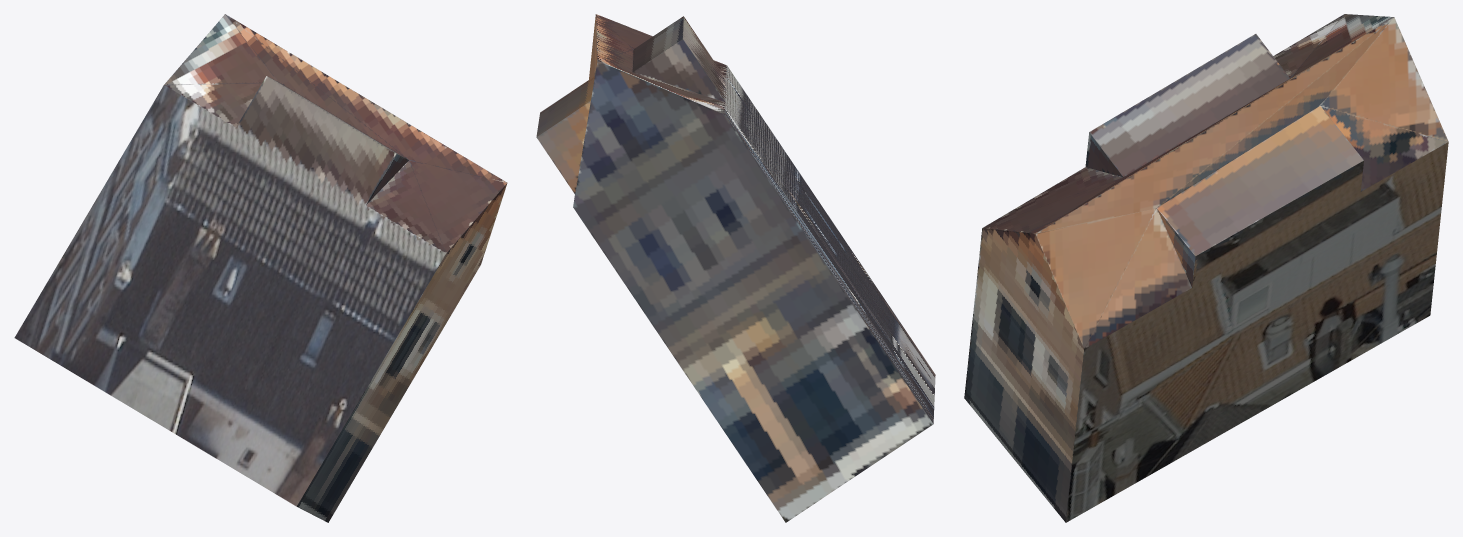
3 views of the same model, side by side, from view 1: azimuth 30°, elevation 25°; view 2: azimuth 150°, elevation 25°; view 3: azimuth 270°, elevation 25° (orthographic). The views are drawn at different scales.
Parts seen in each view (by area): view 1: BAG_0599100000760543 (×4); view 2: BAG_0599100000760543 (×4); view 3: BAG_0599100000760543 (×4).
Part boxes in pixels (left/top/right/bottom): BAG_0599100000760543 (×4): left=14, top=14, right=507, bottom=522; BAG_0599100000760543 (×4): left=536, top=14, right=935, bottom=522; BAG_0599100000760543 (×4): left=964, top=14, right=1448, bottom=522.
Size of the model in its own units: 14.03 by 14.45 by 12.16.
Materials: 1 (1 with a texture image).
